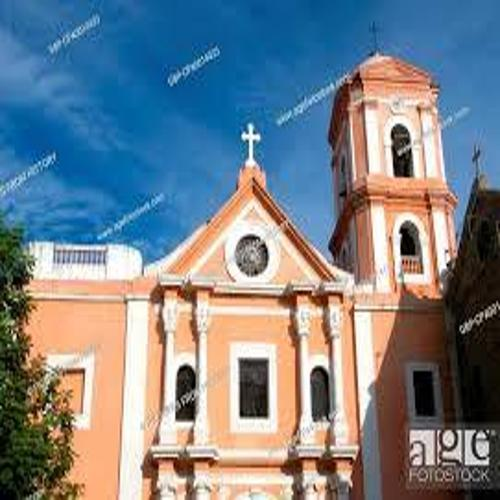San Agustin Church: (137, 8, 477, 500)
